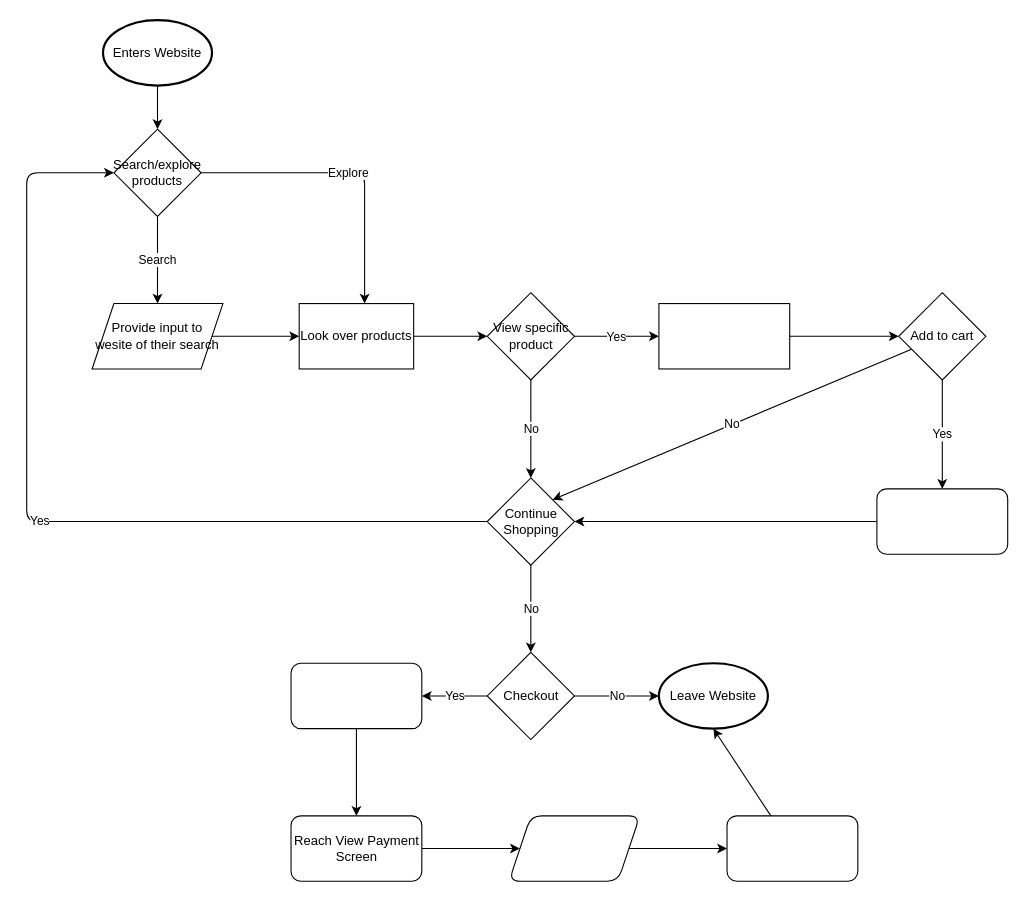
Image size: 1027x900. Some labels were removed from this diagram. The shapes that lost their labels are listed below. From the top down, each one's centre as x and y in pixels, then its label:
[724,335]: Open that specific product's webpage
[942,521]: Receive cart confirmation
[356,695]: Reach View Cart Screen
[574,848]: Provide payment information
[792,848]: Reach Order Confirmation Screen and receive email
